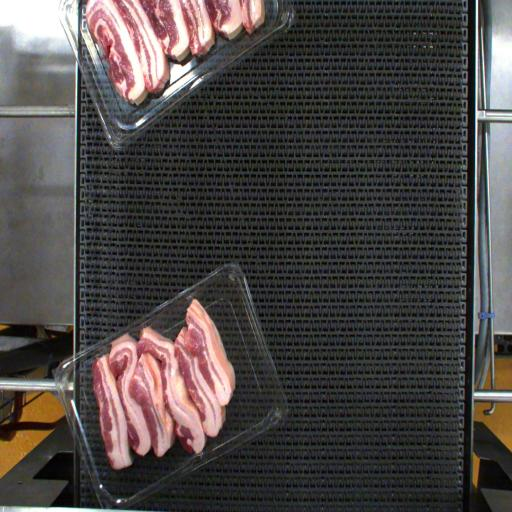packaging-error: (128, 316, 154, 342), (104, 330, 130, 350), (182, 287, 199, 312), (142, 332, 148, 332)
